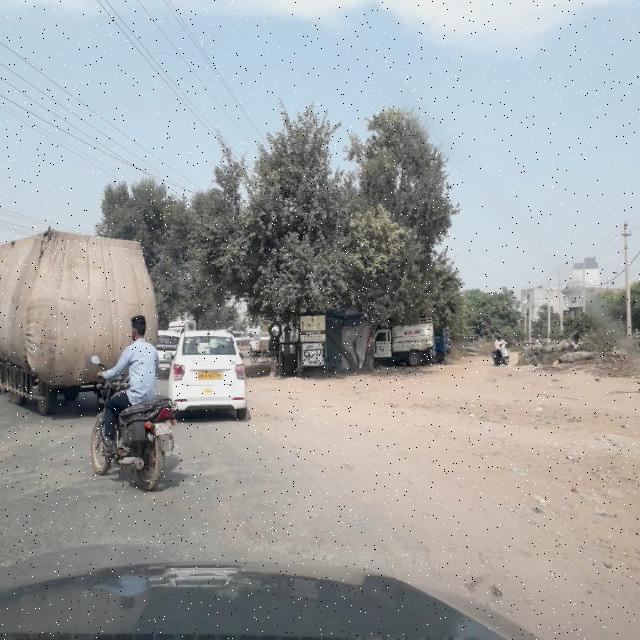D10: (5, 528, 175, 562)
D40: (7, 459, 77, 513)
